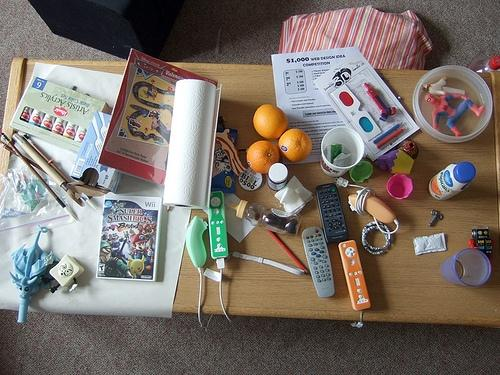orange: (253, 104, 289, 140), (278, 128, 312, 162), (247, 140, 280, 174)
